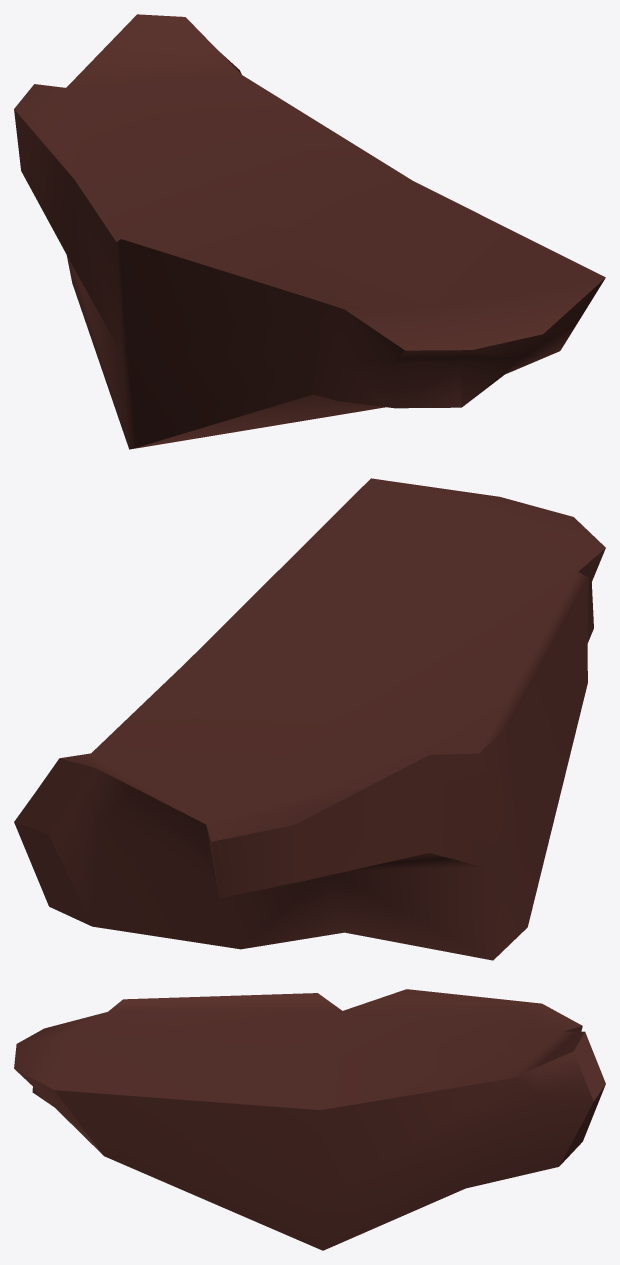
The model's file is SM_big_rock_A.fbx.
3 renders of one model, top to bottom at view 1: azimuth 30°, elevation 25°; view 2: azimuth 150°, elevation 25°; view 3: azimuth 270°, elevation 25°, orthographic. The views are drawn at different scales.
Visible parts, largest first — view 1: polySurface26; view 2: polySurface26; view 3: polySurface26.
Boxes of the visible parts, left/top/right/bottom form: polySurface26: left=14, top=14, right=605, bottom=449; polySurface26: left=14, top=478, right=605, bottom=960; polySurface26: left=14, top=989, right=605, bottom=1250.
Bounding box in the file's own units: 566 × 460 × 1285.
